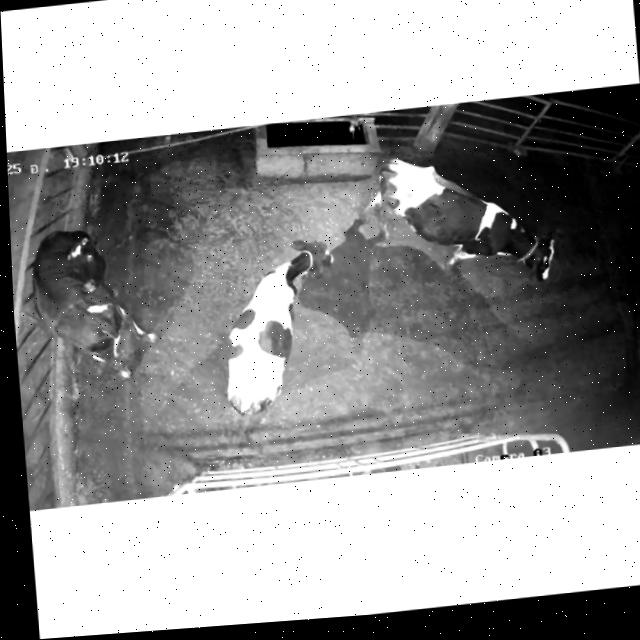stand: (355, 131, 578, 318), (195, 223, 349, 429), (28, 215, 173, 402)
